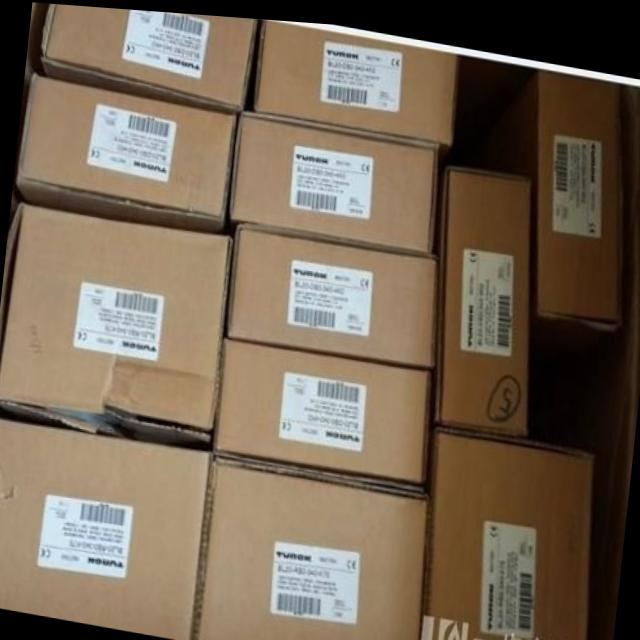box: (0, 201, 231, 445), (0, 419, 210, 637), (190, 449, 429, 640), (490, 62, 621, 383), (425, 425, 593, 640), (15, 73, 234, 231), (209, 333, 431, 485), (226, 218, 440, 361), (229, 105, 438, 248), (435, 159, 530, 428), (253, 16, 456, 138), (40, 3, 258, 106)
